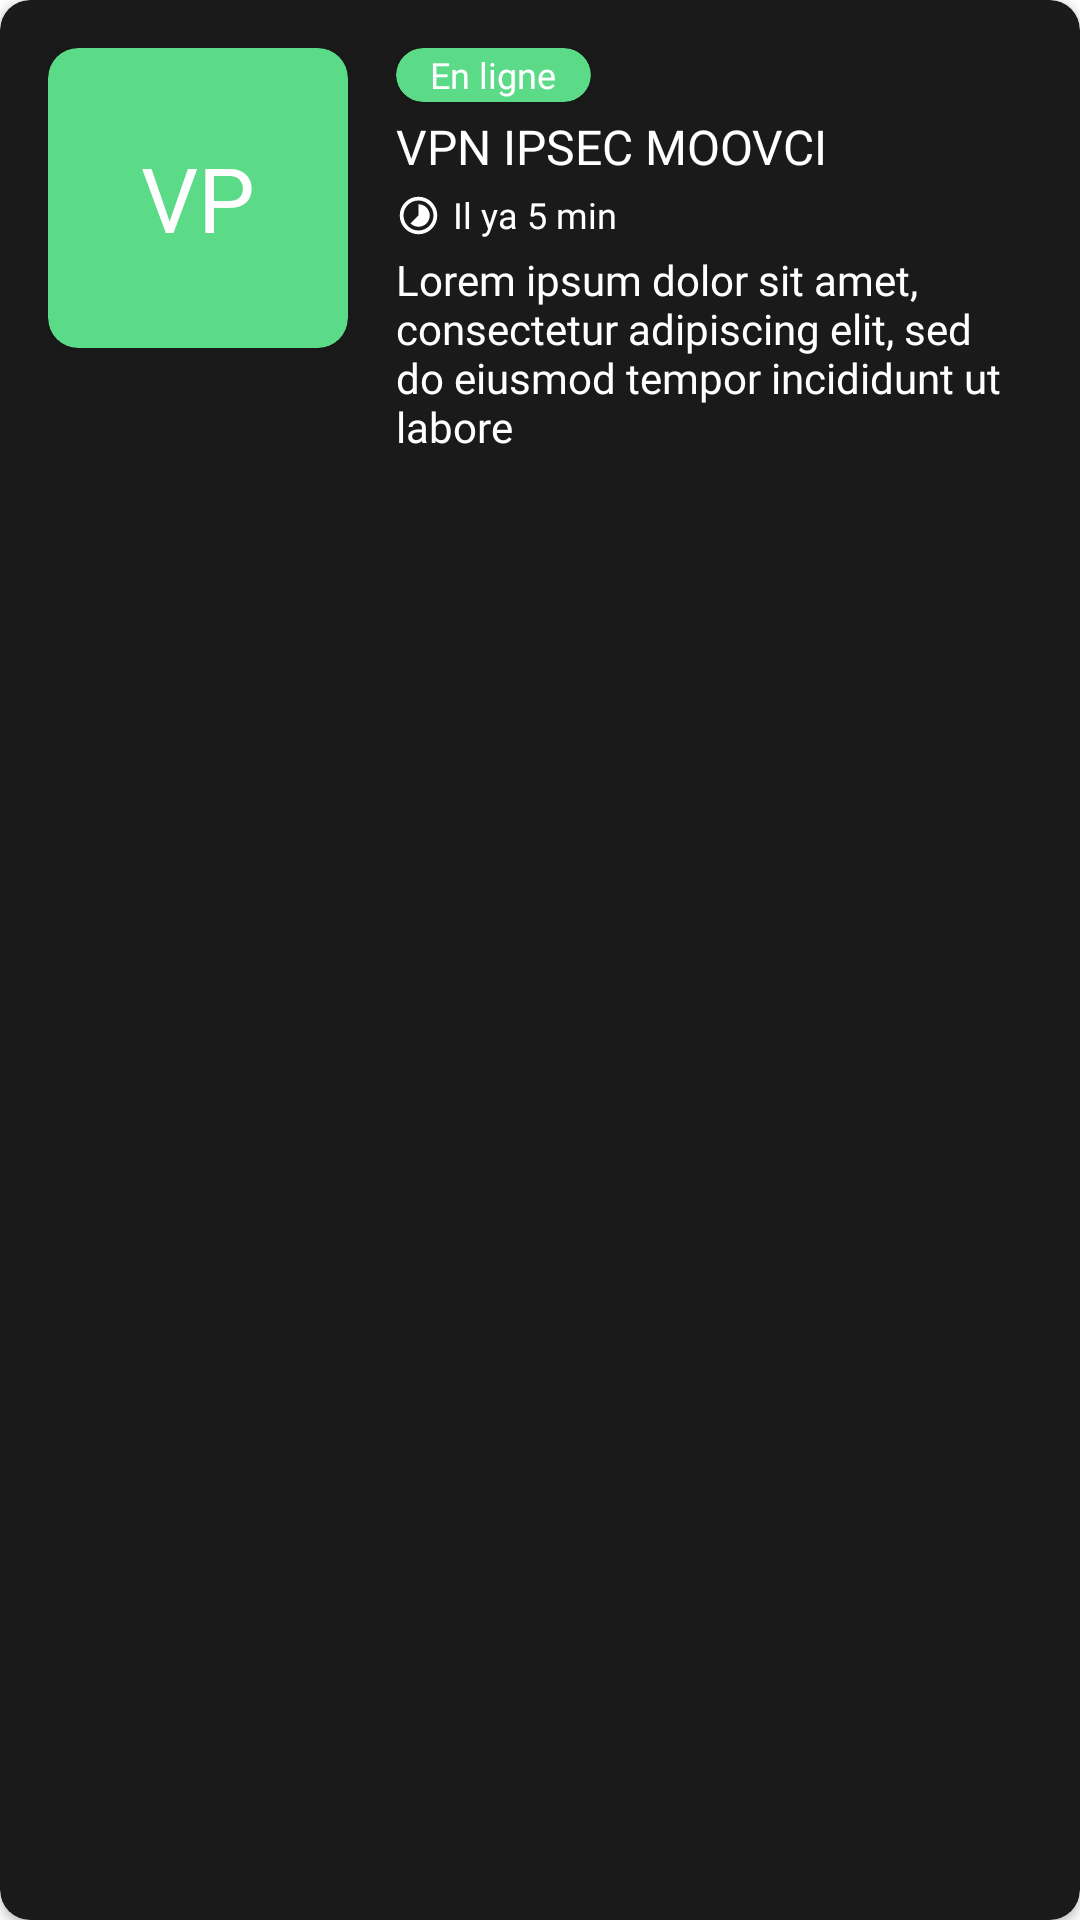

Icon bounding boxes for this 1080×1920 phone screenshot, format detection(x1, y1, x2, y2):
timelapse: detection(399, 196, 438, 235)
